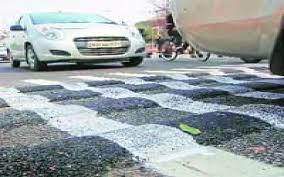Bump: (0, 95, 283, 176), (0, 75, 283, 132), (0, 63, 272, 97)
